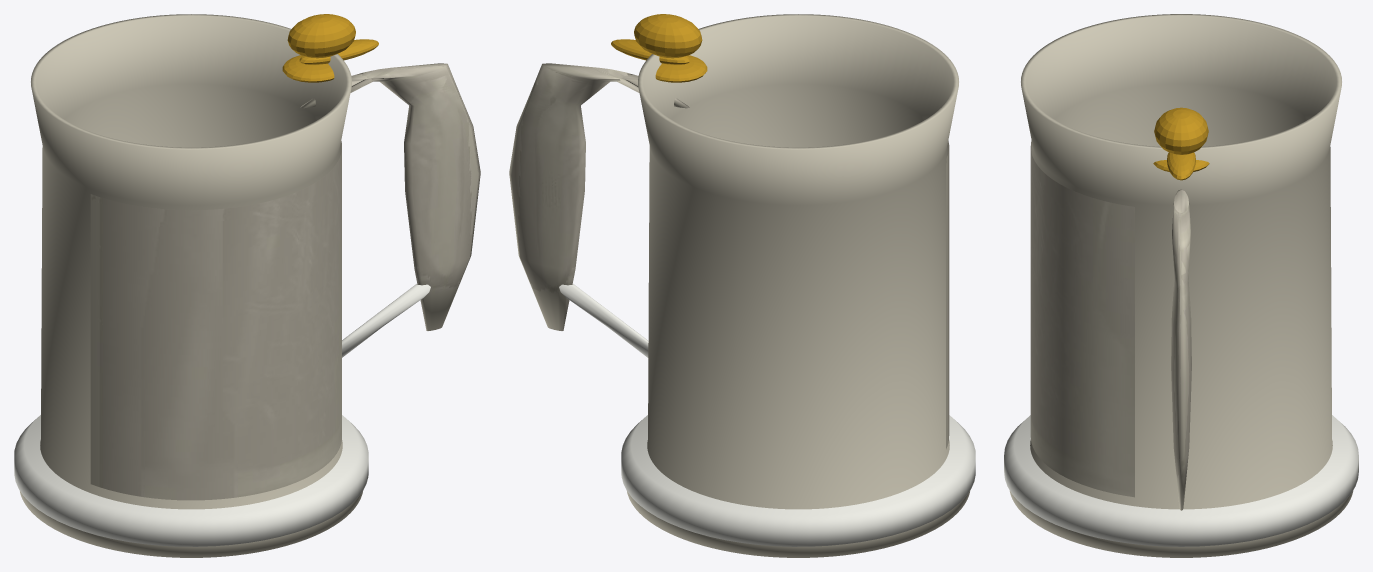
3 views of the same model, side by side, from view 1: azimuth 30°, elevation 25°; view 2: azimuth 150°, elevation 25°; view 3: azimuth 270°, elevation 25° (orthographic).
Parts seen in each view (by area): view 1: metal_tankard__body; view 2: metal_tankard__body; view 3: metal_tankard__body.
Boxes of the visible parts, x1,y1,x2,y2 form: metal_tankard__body: [14, 14, 480, 557]; metal_tankard__body: [509, 14, 975, 557]; metal_tankard__body: [1004, 14, 1358, 557].
Bounding box in the file's own units: 0.1323 × 0.1242 × 0.0917.
5 materials, 2 textured.
